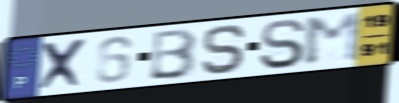6: (94, 35, 133, 85)
B: (146, 26, 199, 82)
M: (302, 11, 364, 68)
S: (257, 17, 308, 71), (199, 22, 248, 75)
X: (36, 36, 92, 93)
